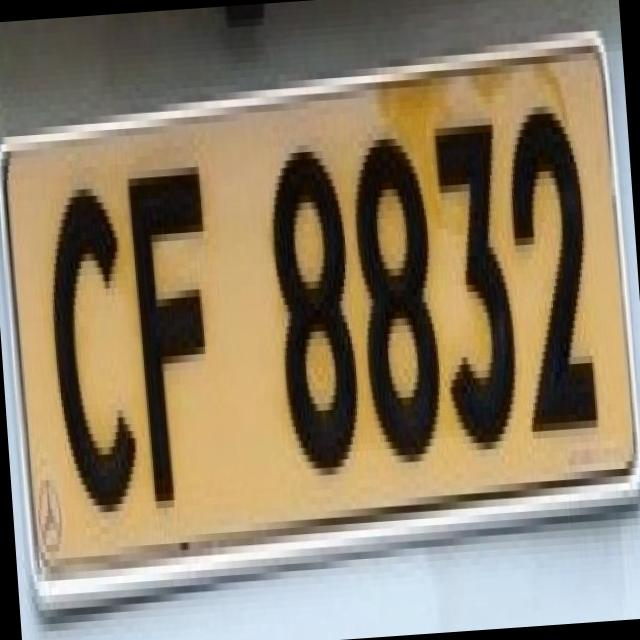2: (492, 89, 607, 440)
3: (414, 94, 528, 460)
8: (249, 120, 369, 478), (338, 114, 453, 465)
C: (28, 164, 146, 516)
F: (111, 151, 234, 510)
